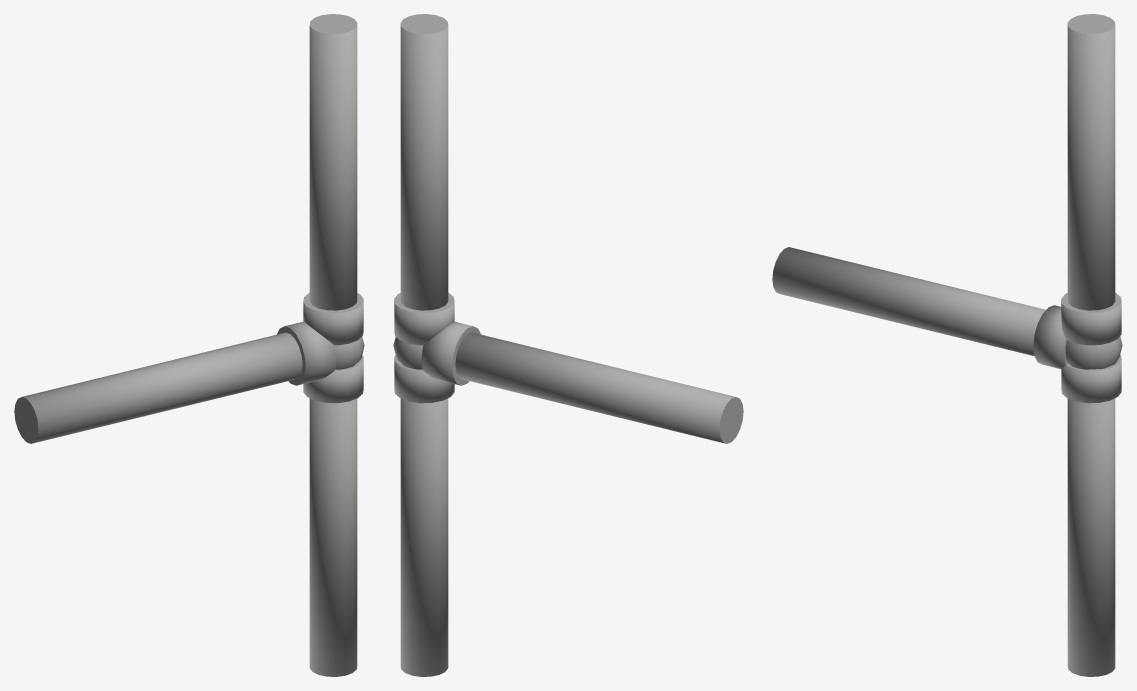
Rendered from pipe_m13.obj.
The picture shows the model from 3 angles, left to right: view 1: azimuth 30°, elevation 25°; view 2: azimuth 150°, elevation 25°; view 3: azimuth 330°, elevation 25°; orthographic projection.
Parts seen in each view (by area): view 1: pipe4, pipe8, pipe1, fitting_socket4, fitting_socket8, fitting_socket1, fitting_hub; view 2: pipe4, pipe8, pipe1, fitting_socket4, fitting_socket8, fitting_socket1, fitting_hub; view 3: pipe4, pipe1, pipe8, fitting_socket4, fitting_socket1, fitting_socket8, fitting_hub.
Part boxes in pixels (box(x1,y1,x2,y2)): pipe4: box(309, 14, 357, 310); pipe8: box(14, 332, 302, 443); pipe1: box(309, 398, 357, 676); fitting_socket4: box(303, 292, 363, 345); fitting_socket8: box(277, 321, 336, 385); fitting_socket1: box(303, 355, 363, 403); fitting_hub: box(334, 337, 364, 369); pipe4: box(400, 14, 448, 310); pipe8: box(455, 332, 743, 443); pipe1: box(400, 398, 448, 676); fitting_socket4: box(394, 292, 454, 345); fitting_socket8: box(421, 321, 480, 385); fitting_socket1: box(394, 355, 454, 403); fitting_hub: box(393, 337, 423, 369); pipe4: box(1067, 14, 1115, 310); pipe1: box(1067, 398, 1115, 676); pipe8: box(772, 247, 1045, 356); fitting_socket4: box(1061, 292, 1121, 345); fitting_socket1: box(1061, 354, 1121, 403); fitting_socket8: box(1033, 305, 1067, 368); fitting_hub: box(1065, 336, 1122, 369).
Bounding box in the file's own units: 0.5439 × 1 × 0.0878.
Materials: 1 (1 with a texture image).
